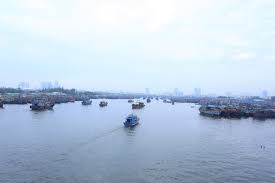tau_dansu: (196, 101, 224, 118), (30, 98, 57, 111), (124, 113, 139, 128), (133, 100, 146, 111), (79, 97, 92, 106), (98, 101, 107, 106)
